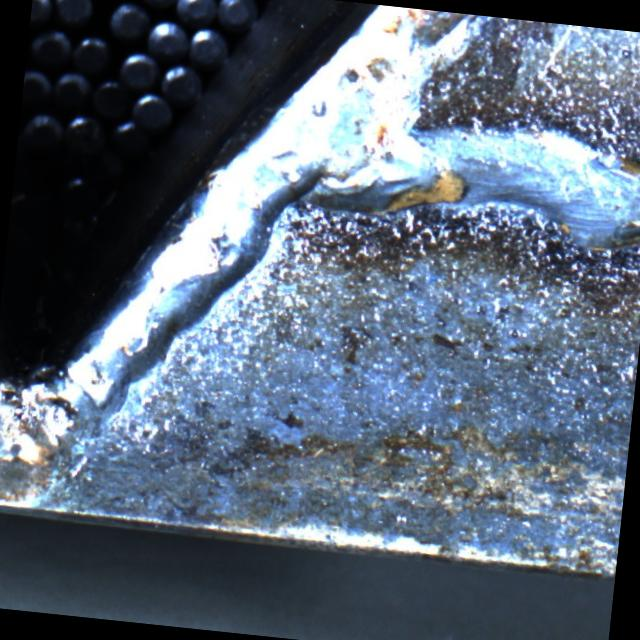tool: (20, 110, 68, 158), (60, 110, 108, 158), (186, 23, 232, 70), (158, 61, 204, 107), (28, 24, 74, 69), (70, 30, 116, 75), (130, 90, 174, 136), (146, 18, 192, 62), (106, 0, 152, 44), (116, 48, 160, 92), (51, 70, 96, 112), (90, 78, 133, 120), (215, 0, 261, 35), (22, 66, 54, 108), (50, 0, 95, 28), (173, 0, 217, 28), (29, 0, 54, 27), (135, 0, 180, 9)
